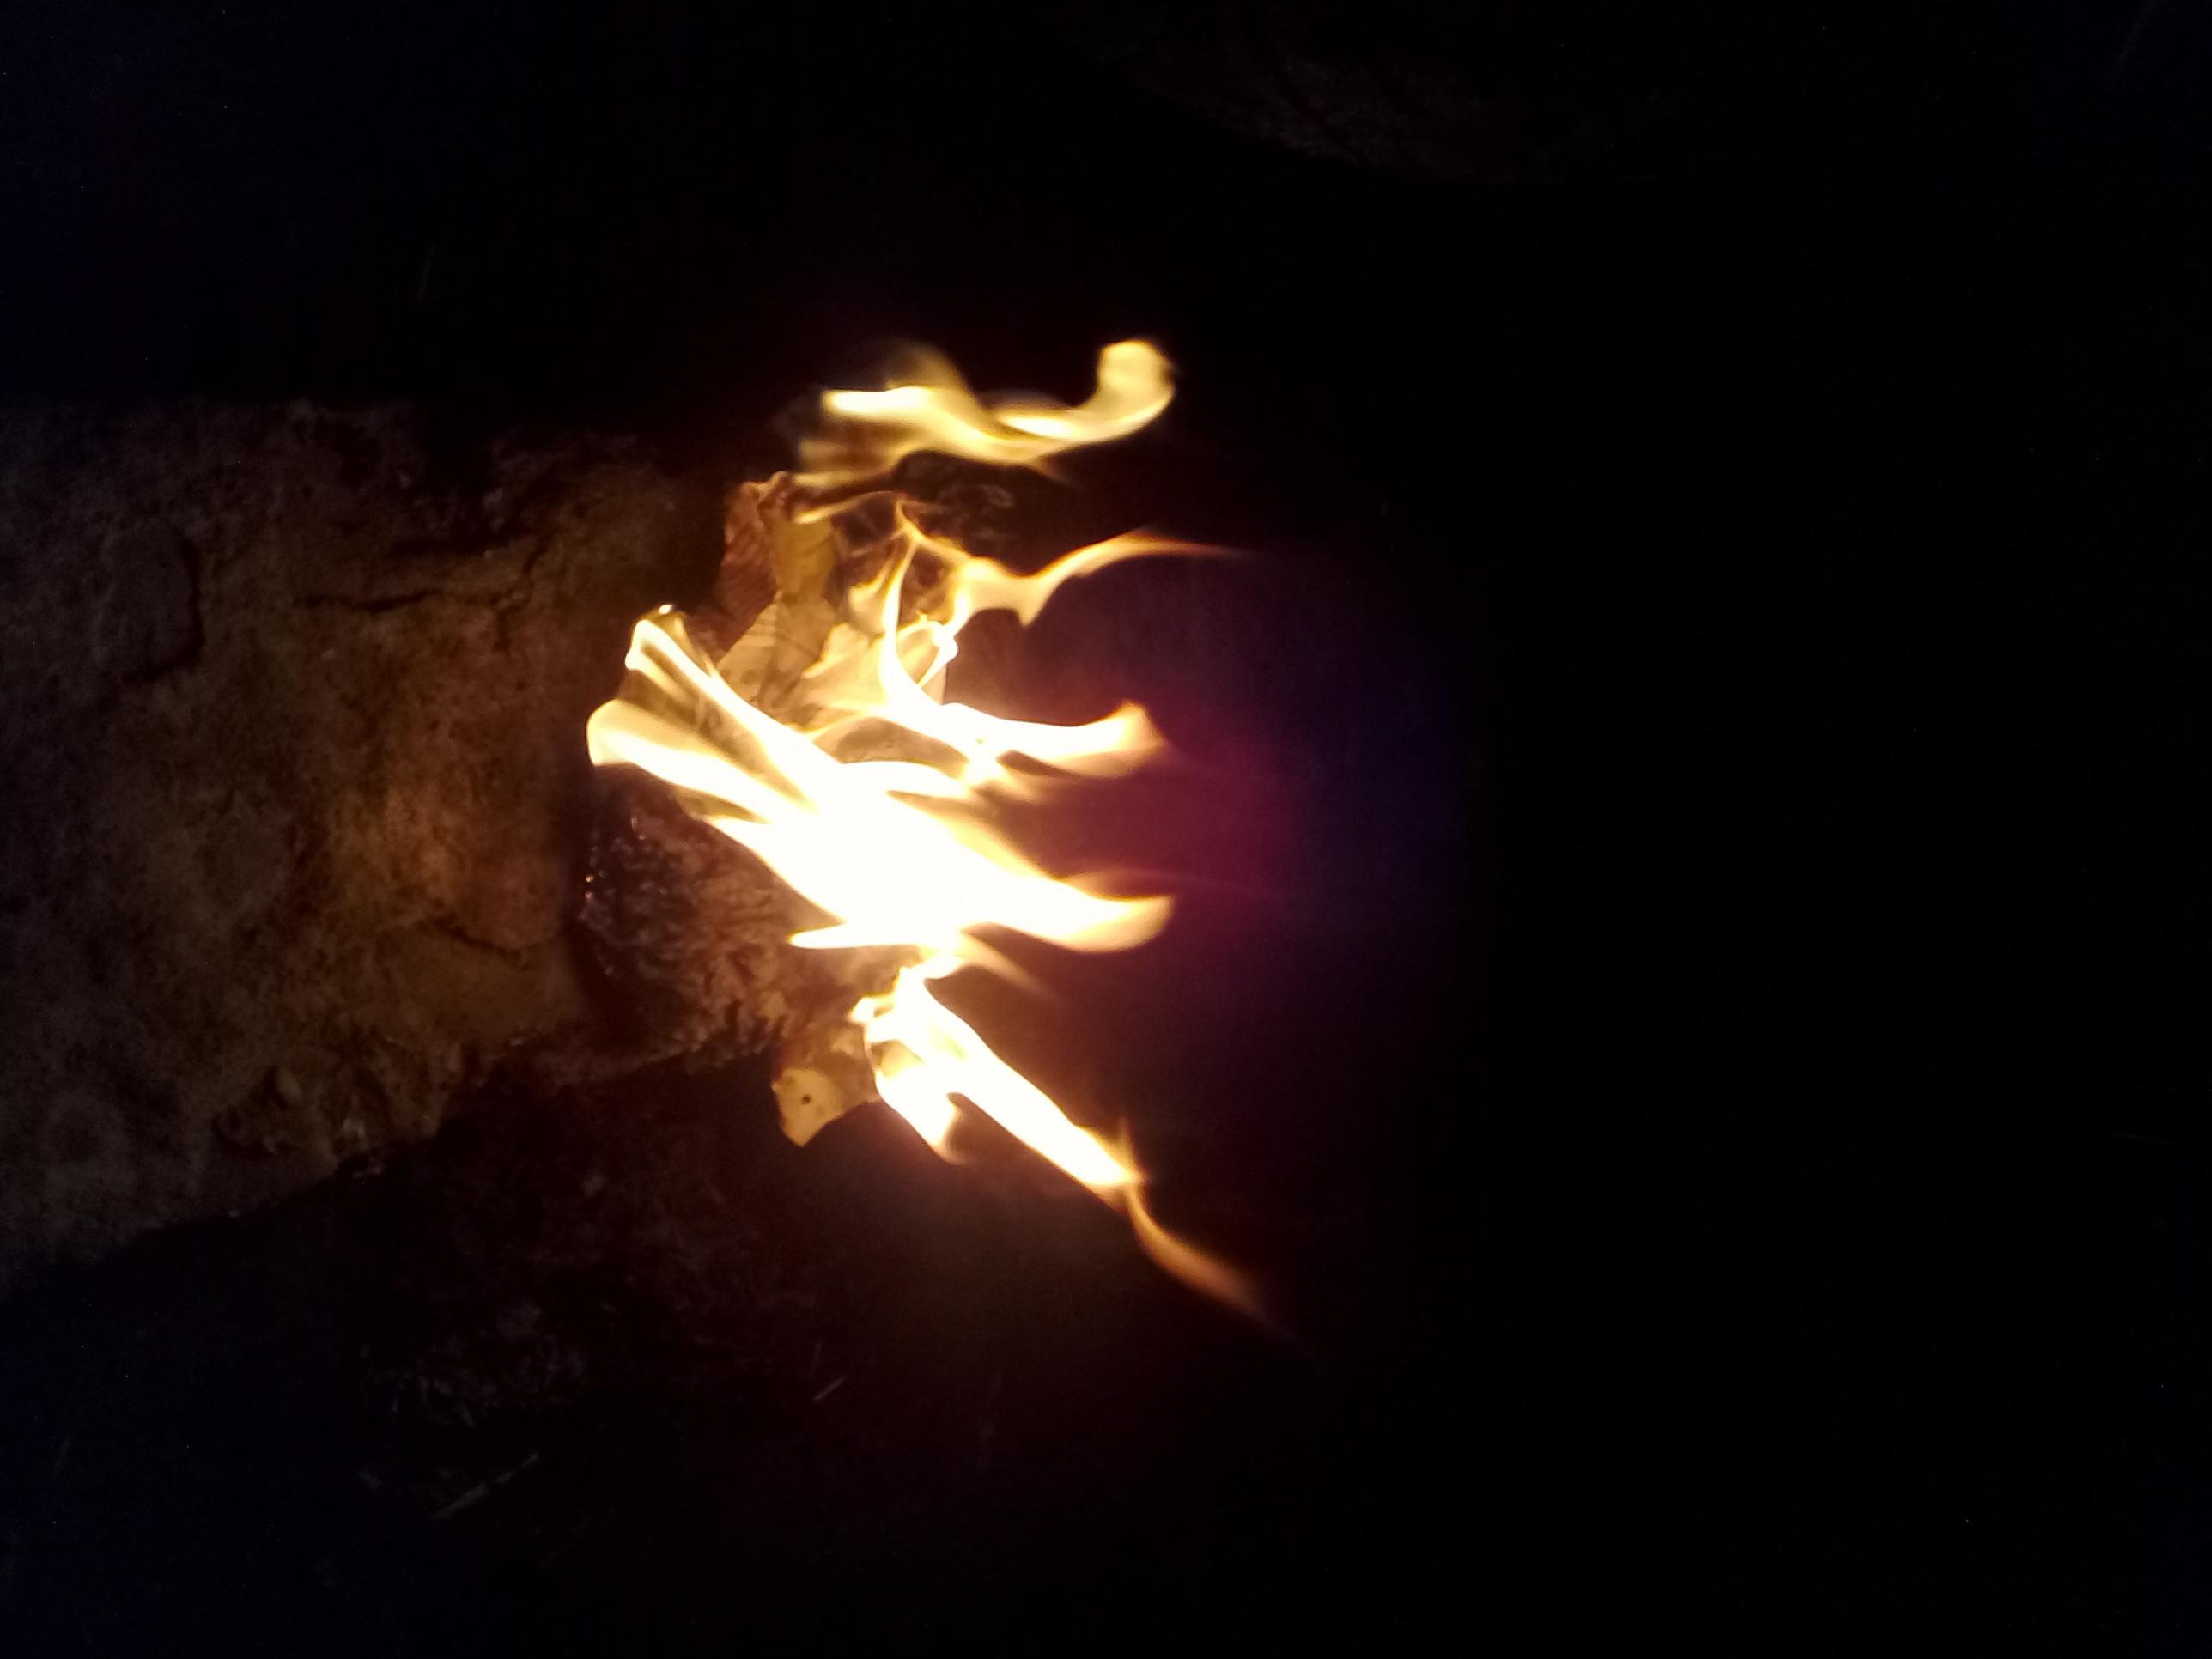fire: (439, 706, 1763, 1225)
